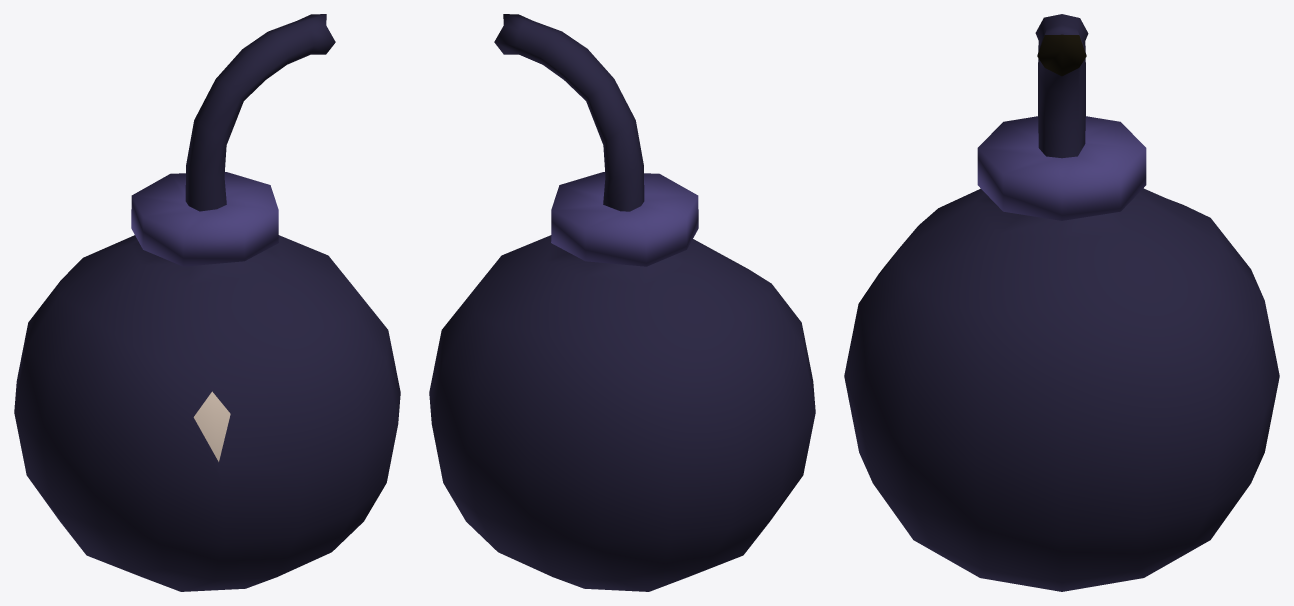
File: Bomb.fbx
3 renders of one model, left to right at view 1: azimuth 30°, elevation 25°; view 2: azimuth 150°, elevation 25°; view 3: azimuth 270°, elevation 25°, orthographic. The views are drawn at different scales.
Parts seen in each view (by area): view 1: Bomb; view 2: Bomb; view 3: Bomb.
Boxes of the visible parts, bbox=[...] form: Bomb: bbox=[14, 14, 400, 591]; Bomb: bbox=[429, 14, 815, 591]; Bomb: bbox=[844, 14, 1279, 591].
Bounding box in the file's own units: 420 × 638 × 420.
